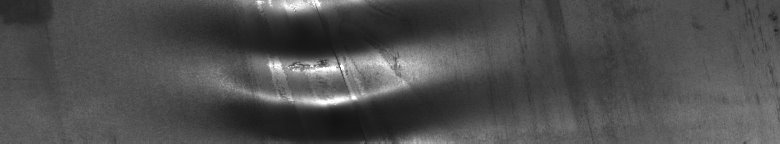ke: (220, 4, 444, 136)
